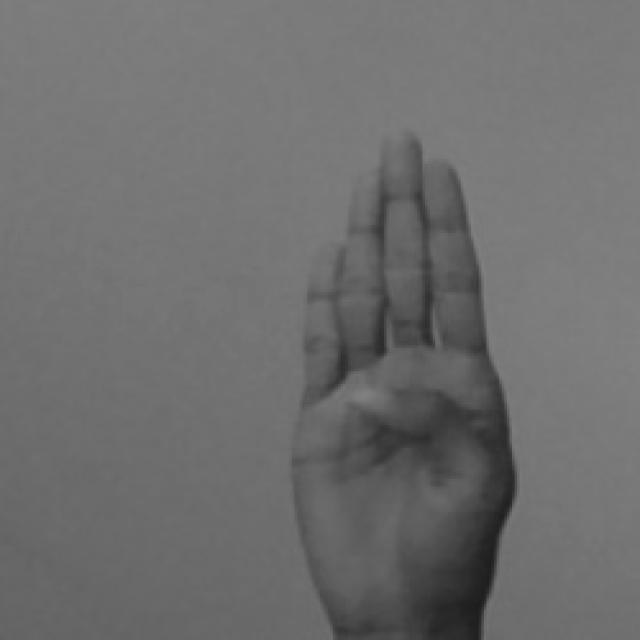B: (290, 130, 516, 640)
